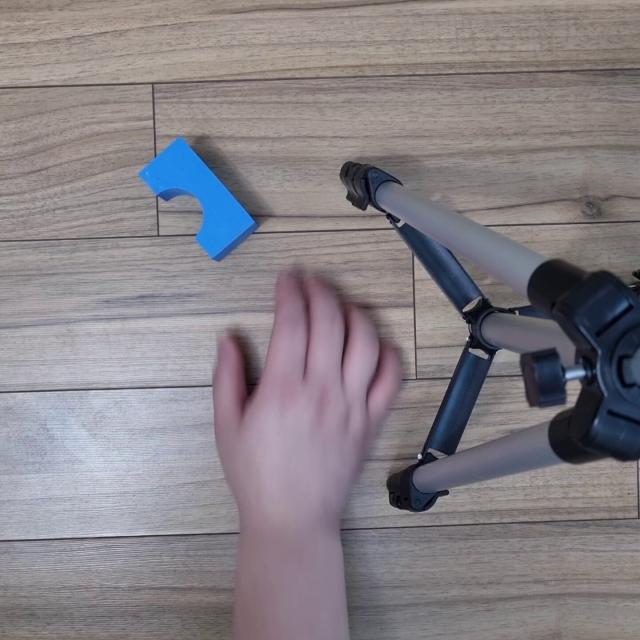block: (137, 132, 257, 262)
hand: (200, 248, 398, 521)
